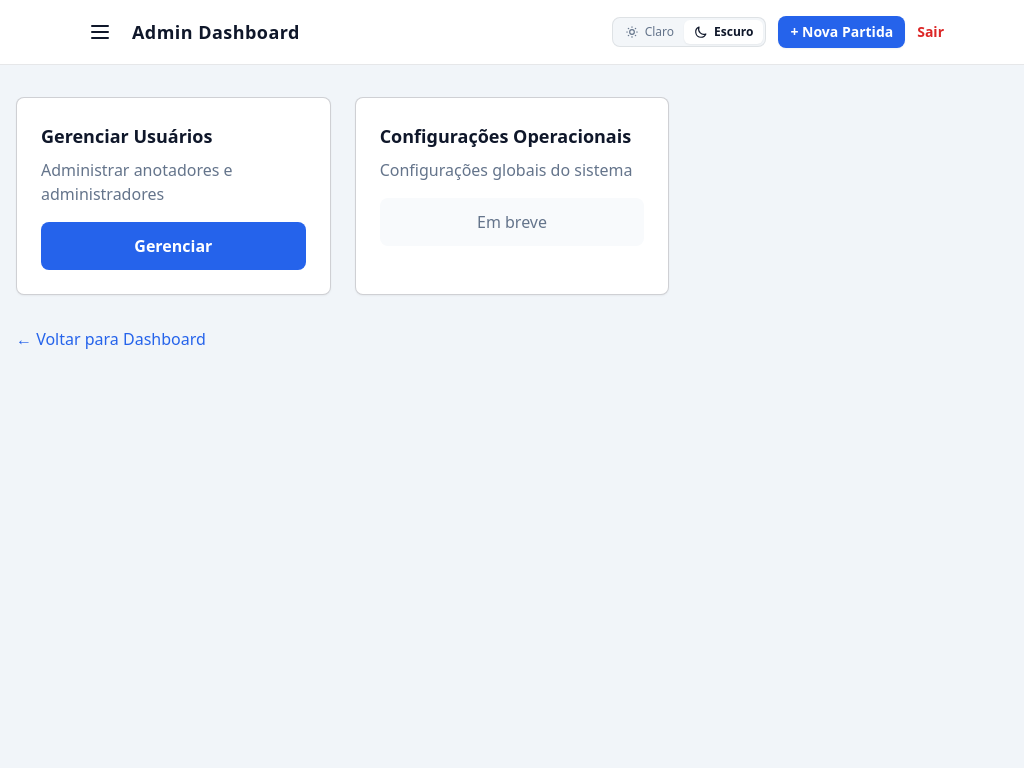
AdminPage — confirmações com alertdialog (sem confirm() nativo) › Excluir usuário › Cancelar não dispara a exclusão
The image size is (1024, 768).
Click the button "Gerenciar": (173, 246) [41,222,306,270]
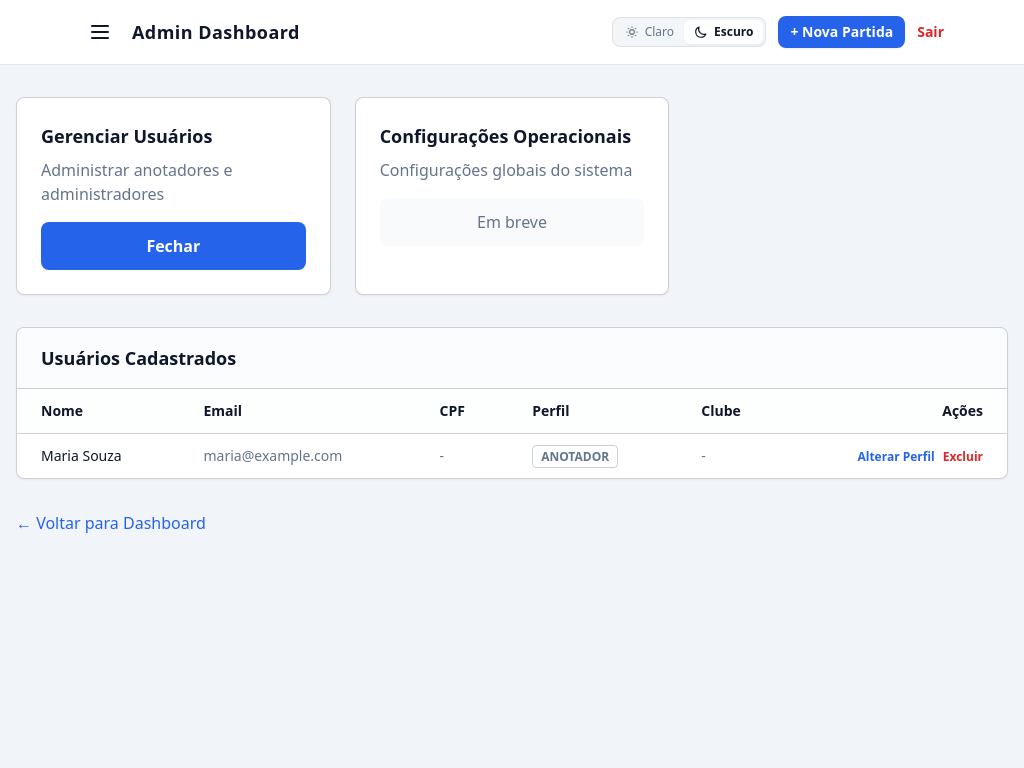
Now the text "Maria Souza" is shown, box [17,434,180,478]
Click the button "Excluir": (963, 457) [943,449,983,465]
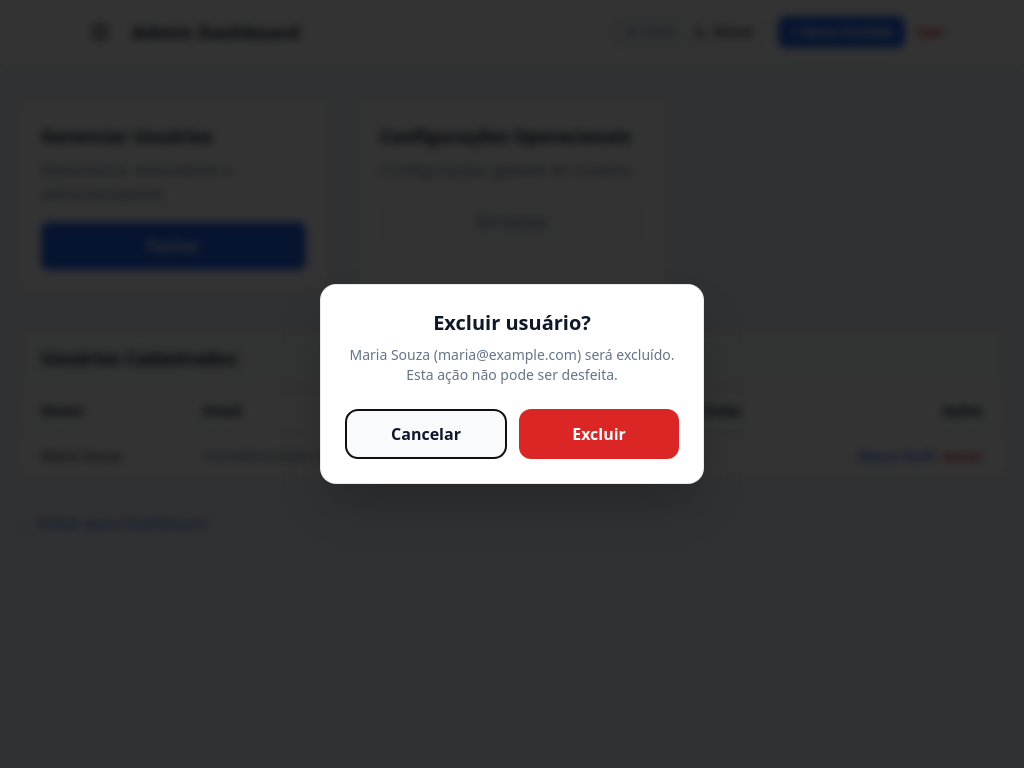
Click the button "Cancelar": (426, 434) [345,409,507,459]
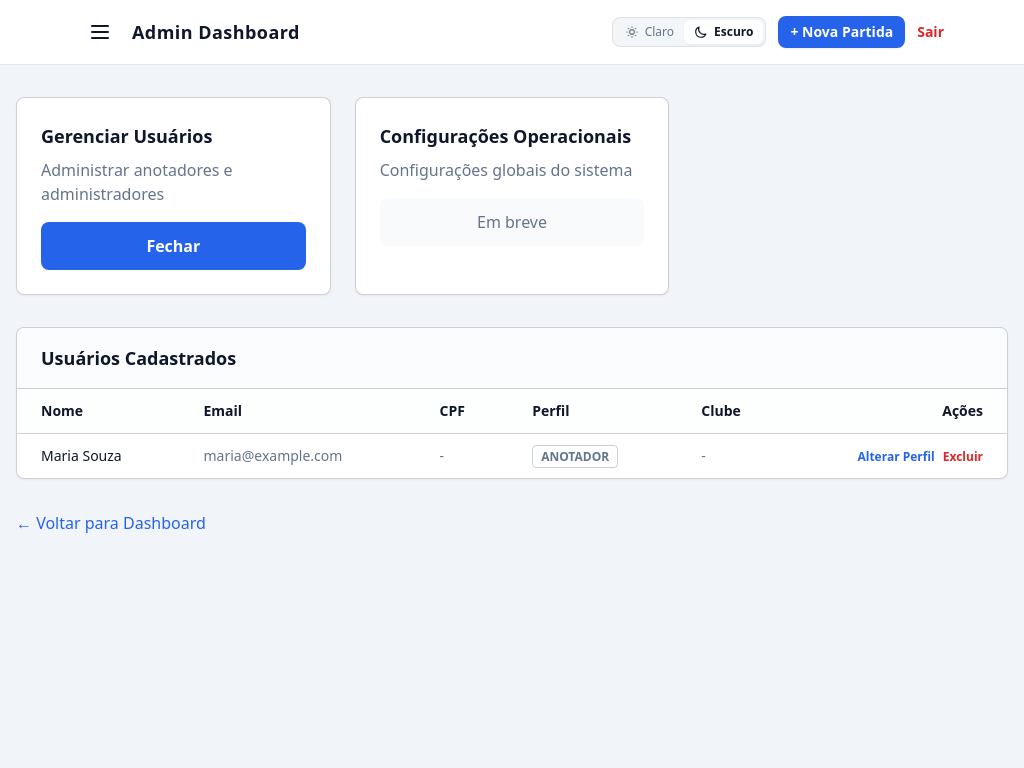
Now the dialog is gone
